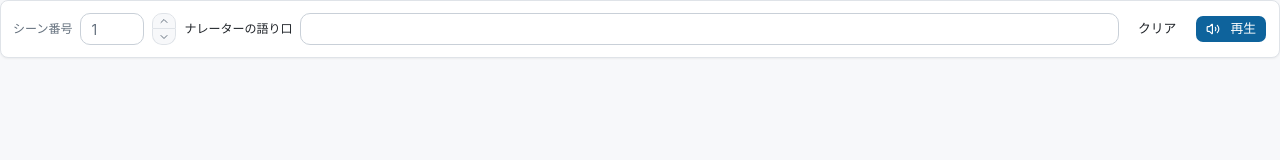
Scenario: AudiobookPlayer › server voice errors use the current locale and preserve the failed state
This screenshot has width=1280, height=160.
What coordinates should you click on to do the following:
click the button with aria-label "再生開始"
I would click on:
 (1231, 29)
Its box is [1195,15,1267,43].
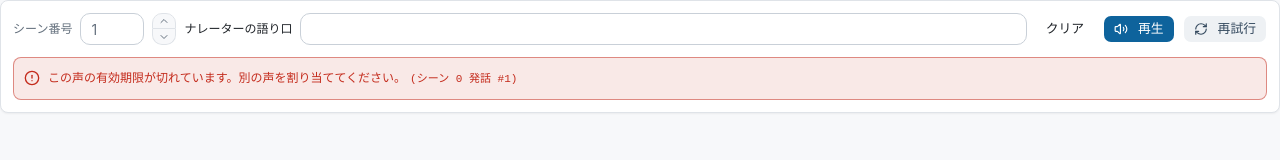
Result: the text "この声の有効期限が切れています。別の声を割り当ててください。" is shown at [48,70,406,85]
